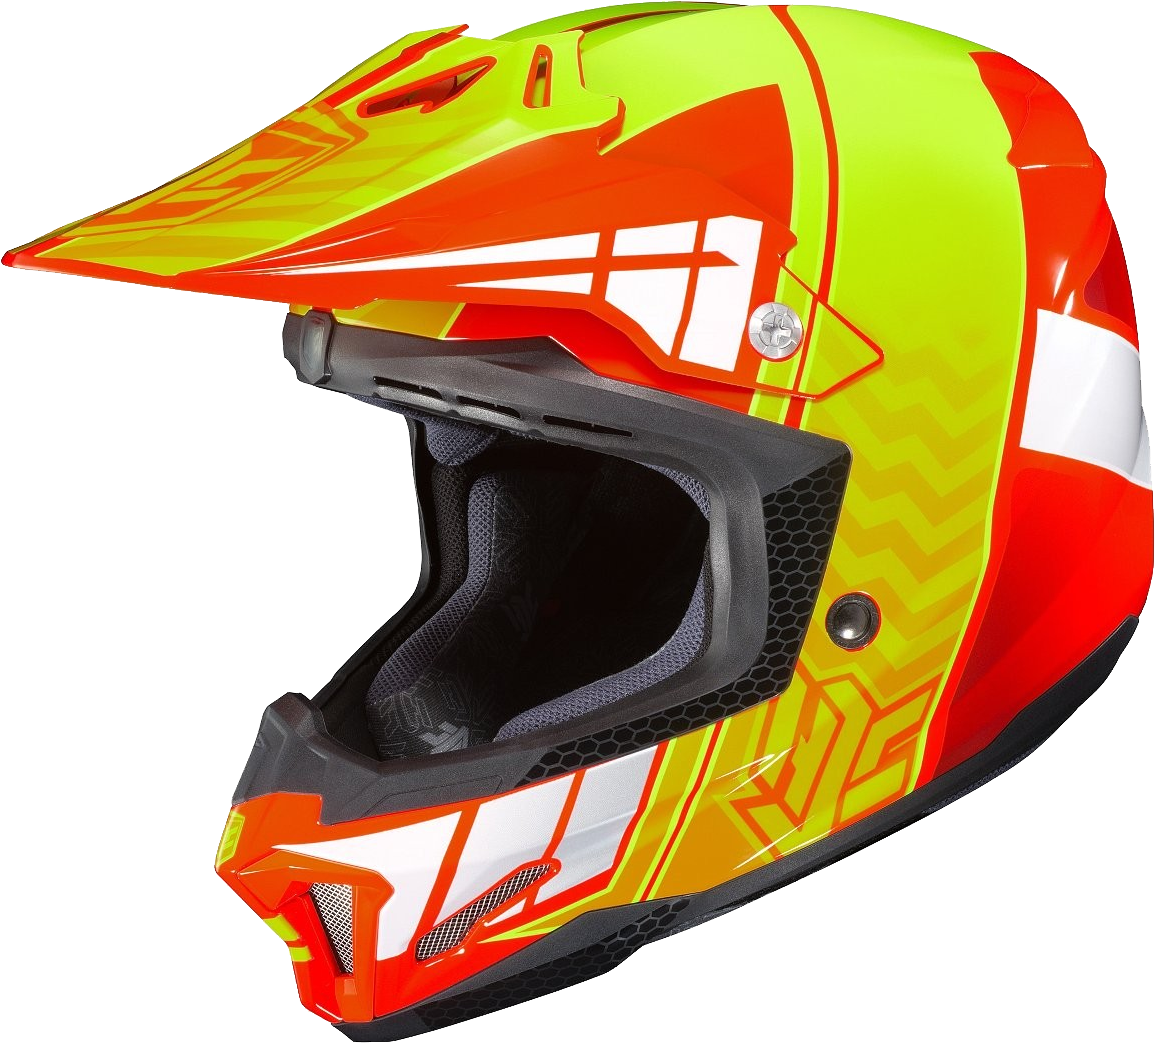with_helmet: (5, 3, 1155, 1027)
